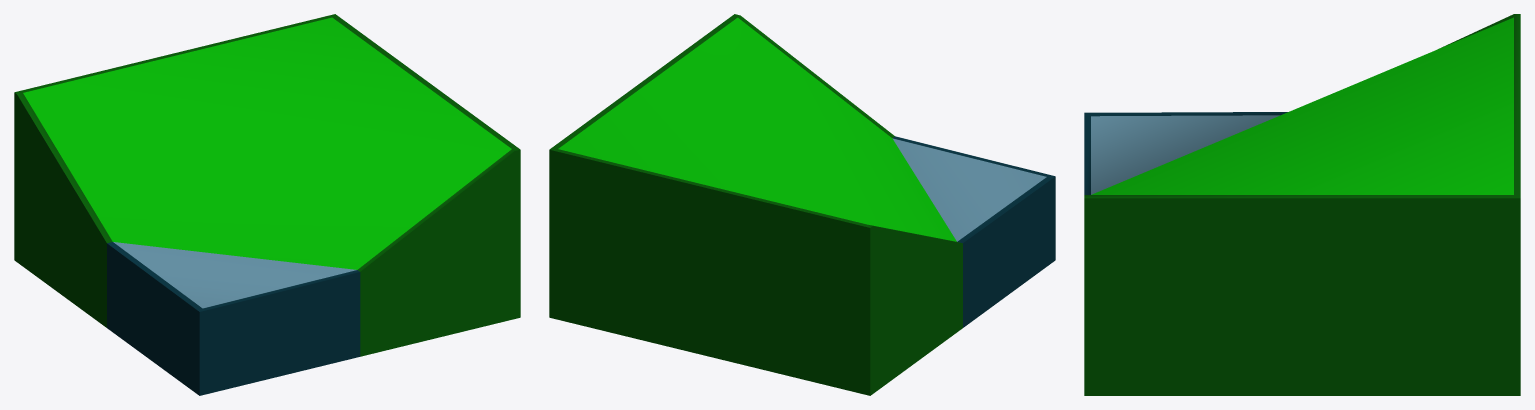
File: Agua_3.fbx
3 views of the same model, side by side, from view 1: azimuth 30°, elevation 25°; view 2: azimuth 150°, elevation 25°; view 3: azimuth 270°, elevation 25° (orthographic). The views are drawn at different scales.
Visible parts, largest first — view 1: pCube4; view 2: pCube4; view 3: pCube4.
Boxes of the visible parts, left/top/right/bottom form: pCube4: left=14, top=14, right=520, bottom=395; pCube4: left=549, top=14, right=1055, bottom=395; pCube4: left=1084, top=14, right=1520, bottom=395.
Size of the model in its own units: 200 by 100 by 200.
